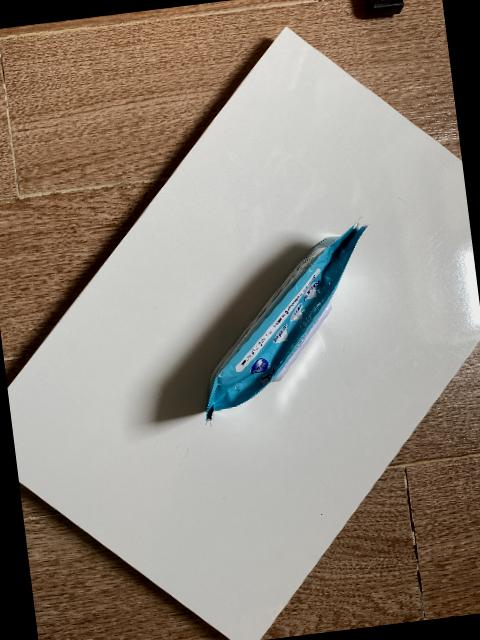Let-green_alcohol_wipes: (203, 222, 365, 420)
